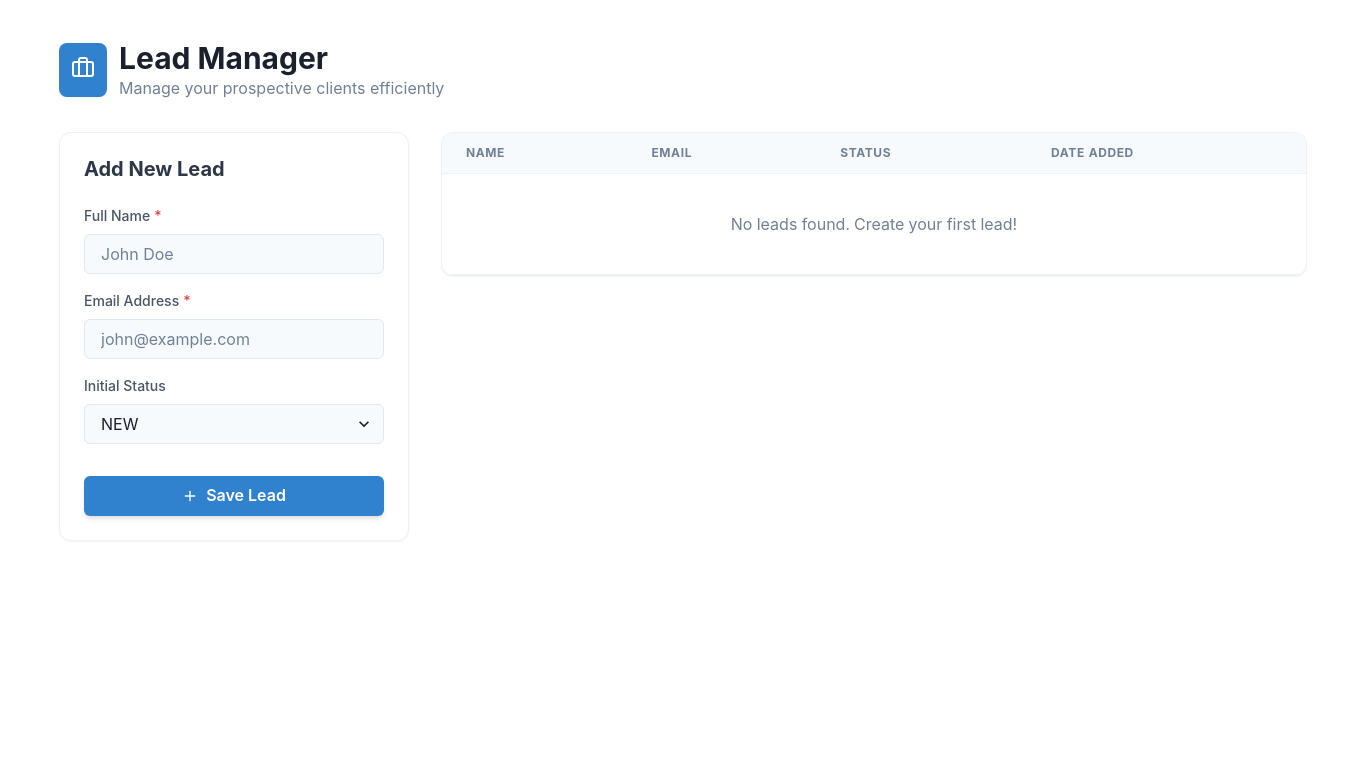
Scenario: Dashboard › shows the API error message when a request fails
Type "Jane Doe" into the field labelled "Full Name*" at x=234, y=254, box [84,234,384,274]
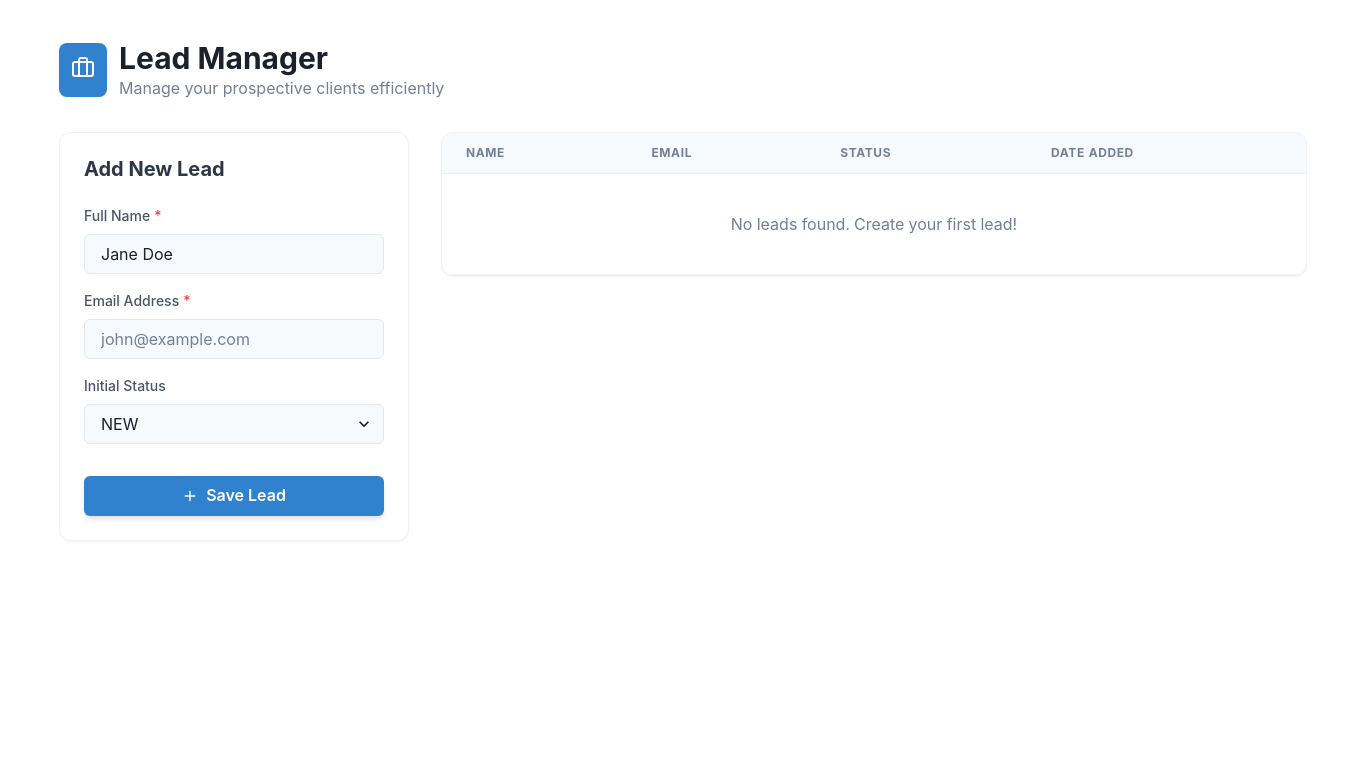
Type "Jane.Doe+Sales @EXAMPLE.COM!" into the field labelled "Email Address*" at x=234, y=339, box [84,319,384,359]
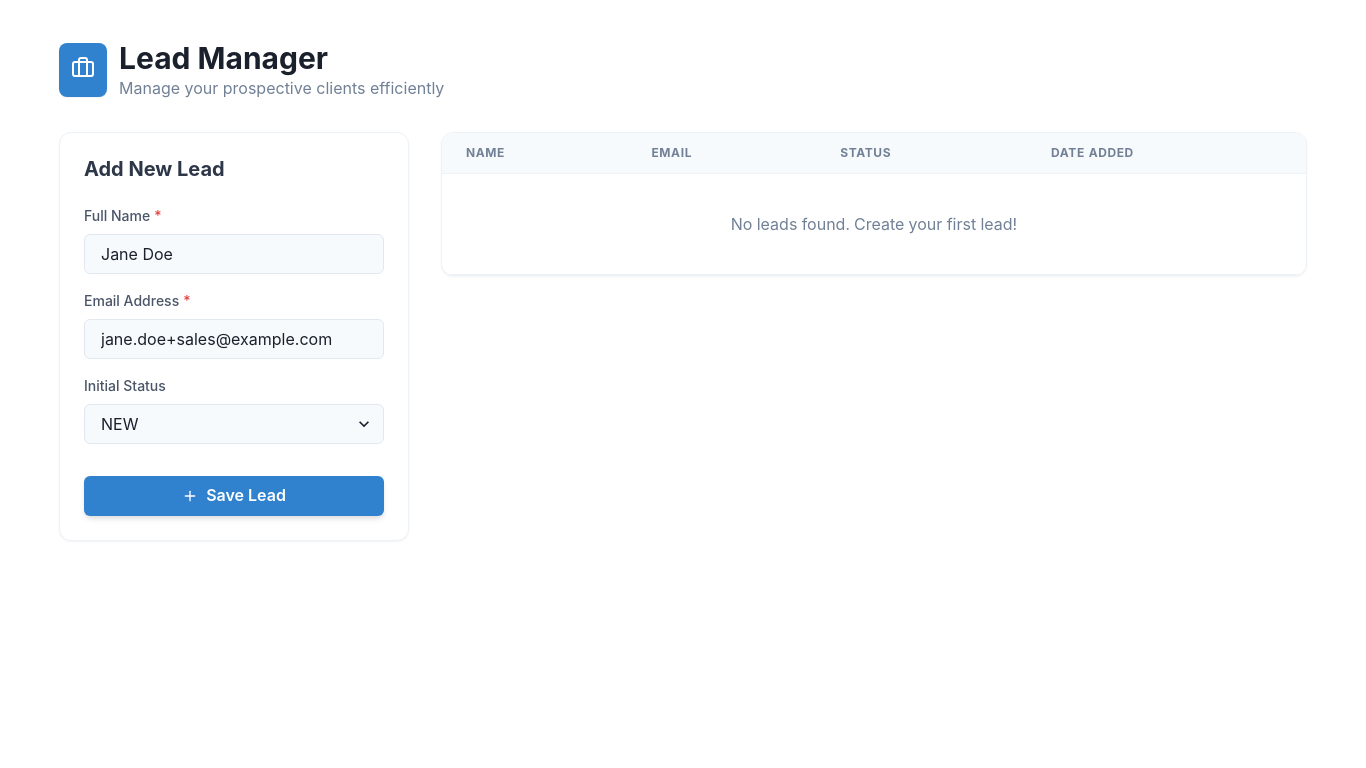
Select "ENGAGED" in the dropdown labelled "Initial Status" at x=234, y=424, box [84,404,384,444]
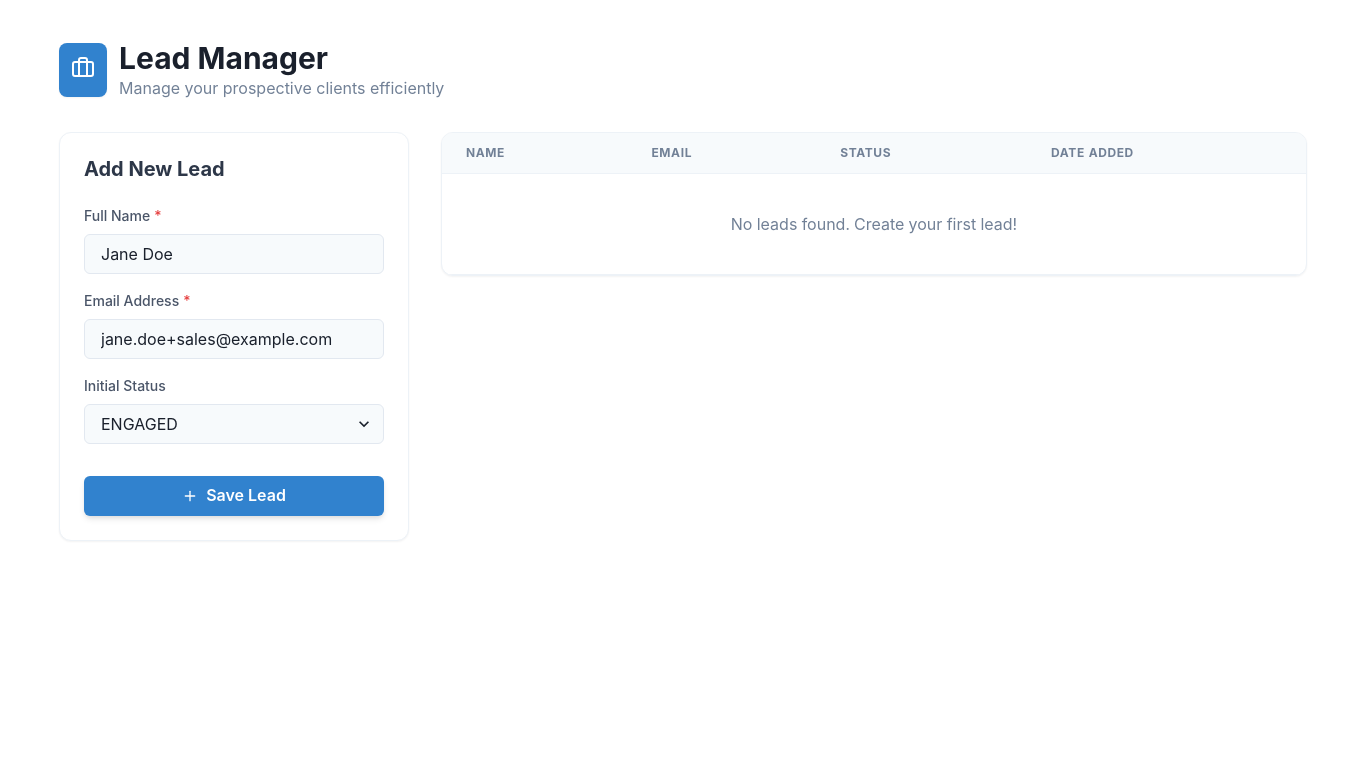
Click the button "Save Lead" at x=234, y=496, box [84,476,384,516]
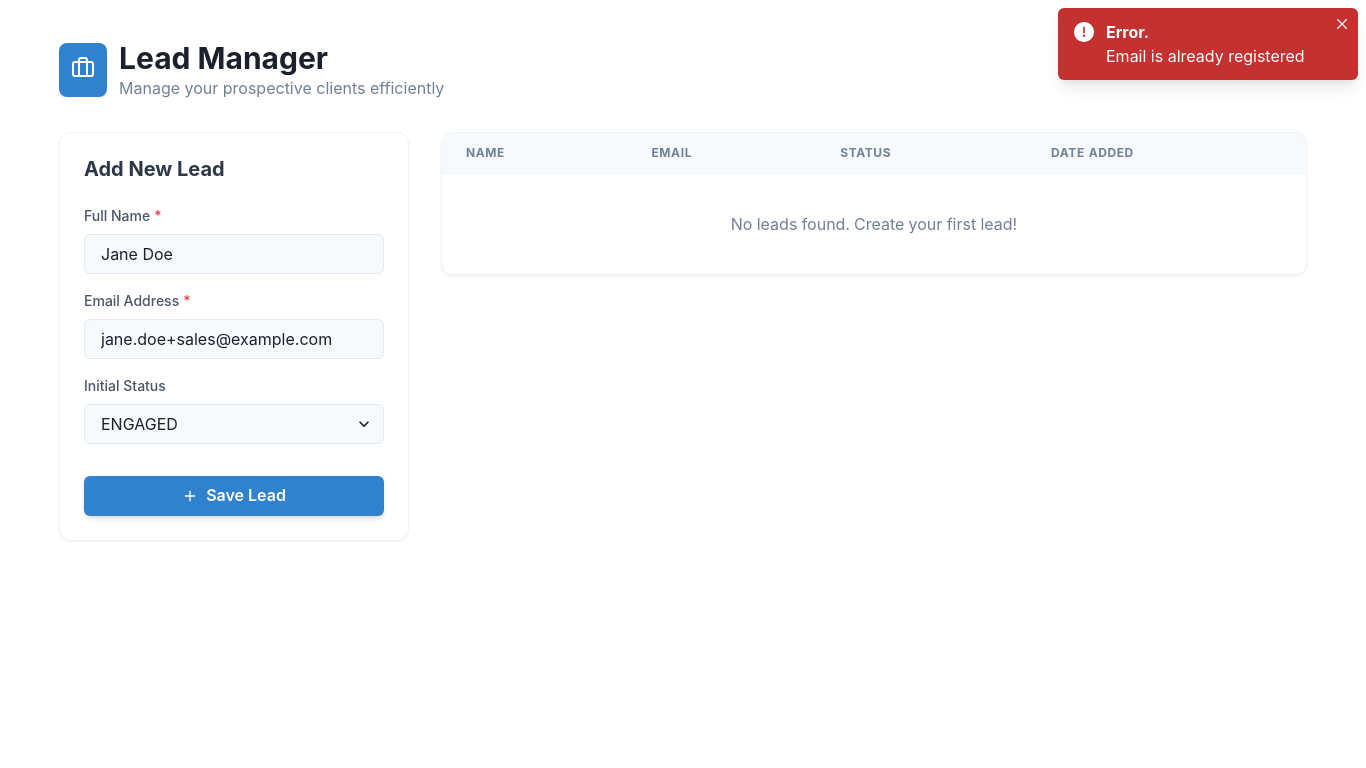
Check: the text "Error." is shown, box [1106,22,1149,42]
Check: the text "Email is already registered" is shown, box [1106,44,1326,68]
